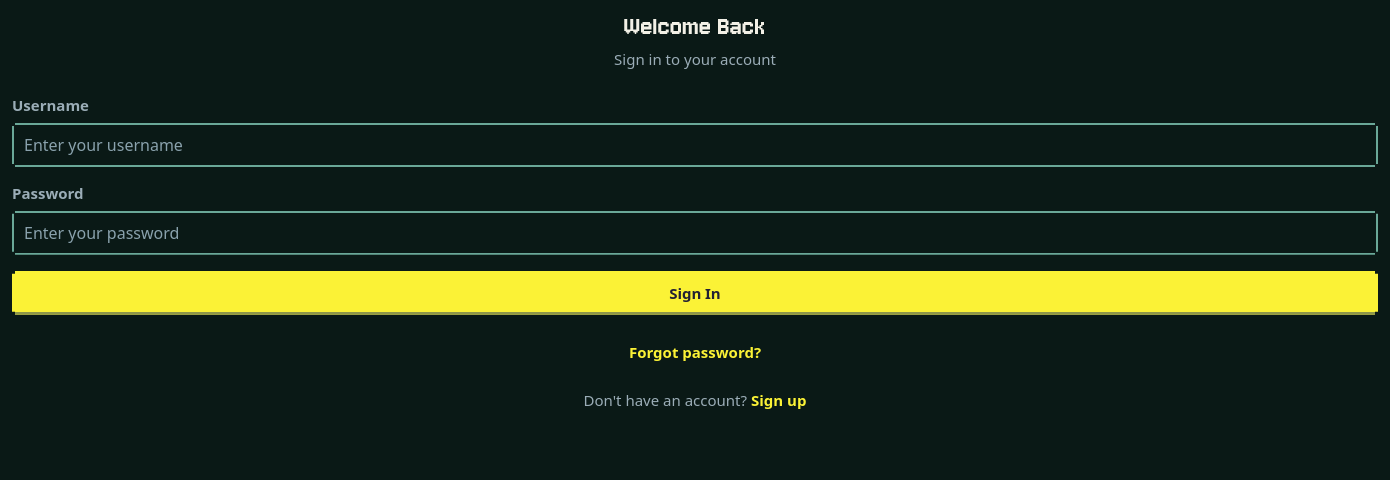
Test: LoginForm › a server error shows a generic try-again, not the browser's or Spring's text
Type "ana" into the field labelled "Username" at x=695, y=145, box [12, 123, 1378, 167]
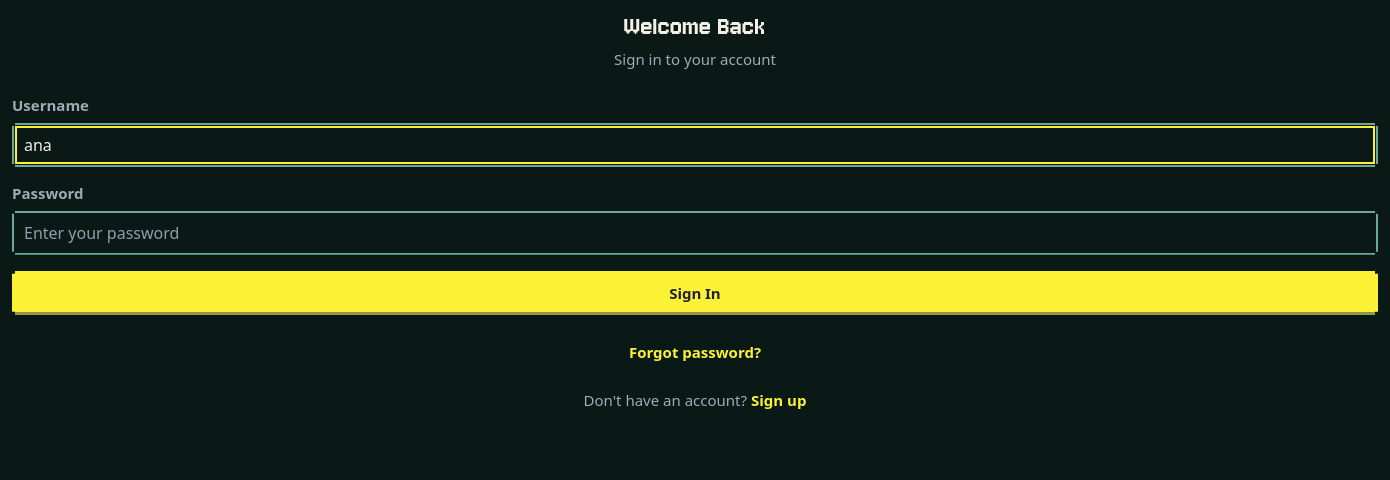
Type "long-enough-1" into the password field labelled "Password" at x=695, y=233, box [12, 211, 1378, 255]
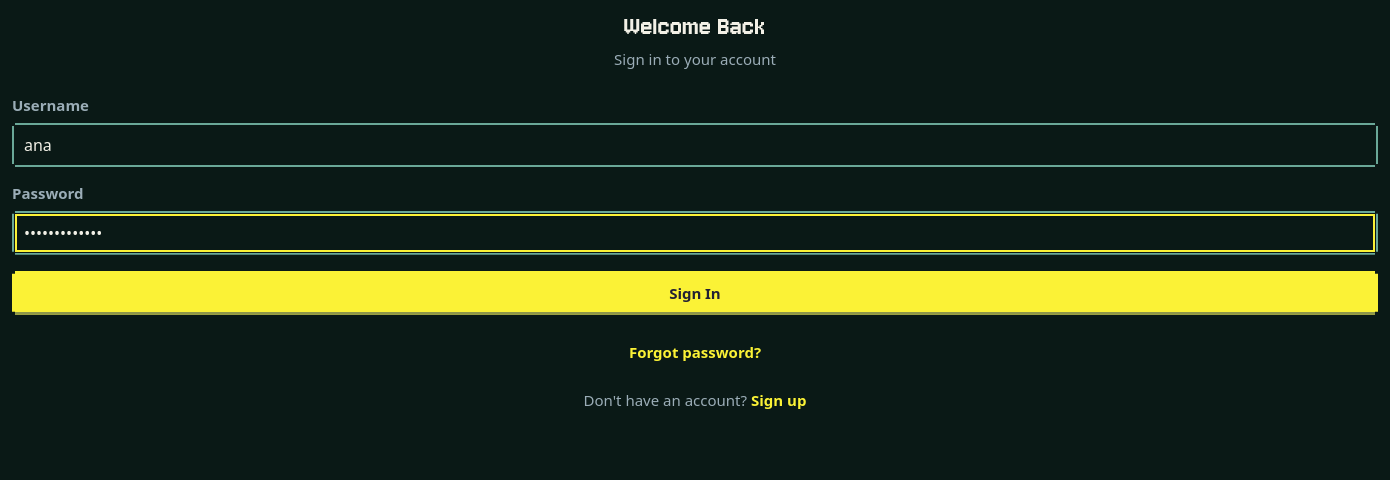
Click the button "Sign In" at x=695, y=293, box [12, 271, 1378, 315]
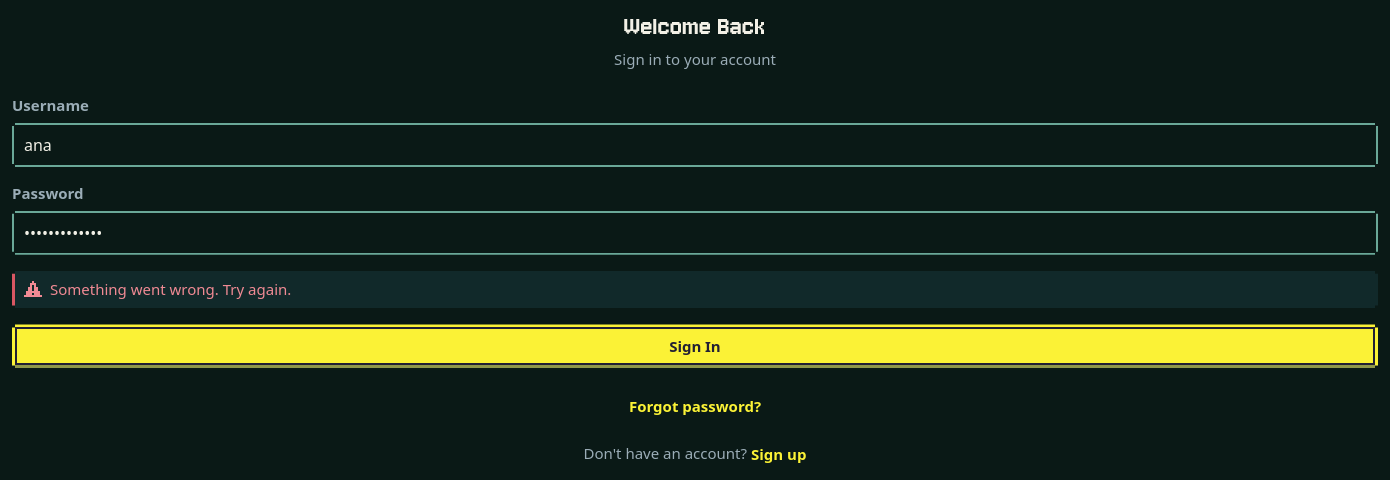
expect the text "Something went wrong. Try again." is shown: met, box [50, 279, 291, 300]
